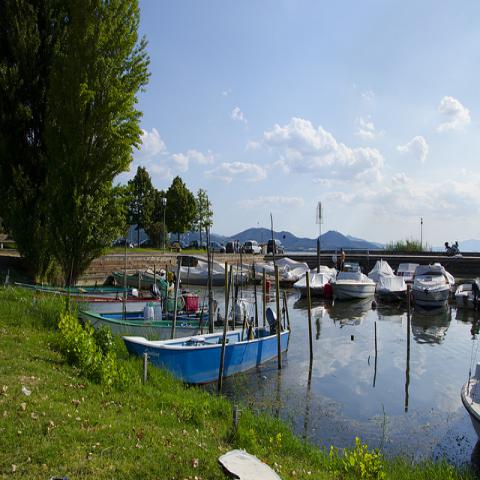car: (267, 239, 285, 254), (206, 241, 226, 254), (112, 236, 132, 248), (244, 241, 262, 254), (135, 239, 156, 248), (226, 242, 235, 254), (188, 241, 199, 250), (180, 240, 189, 247)
